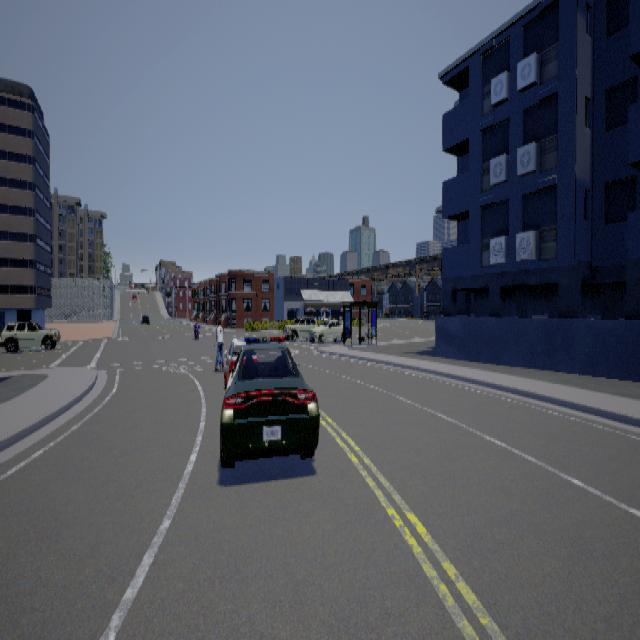bike: (212, 317, 229, 372)
vehicle: (221, 337, 322, 466), (1, 320, 62, 352), (312, 312, 349, 340), (191, 318, 205, 338), (141, 312, 153, 325)
